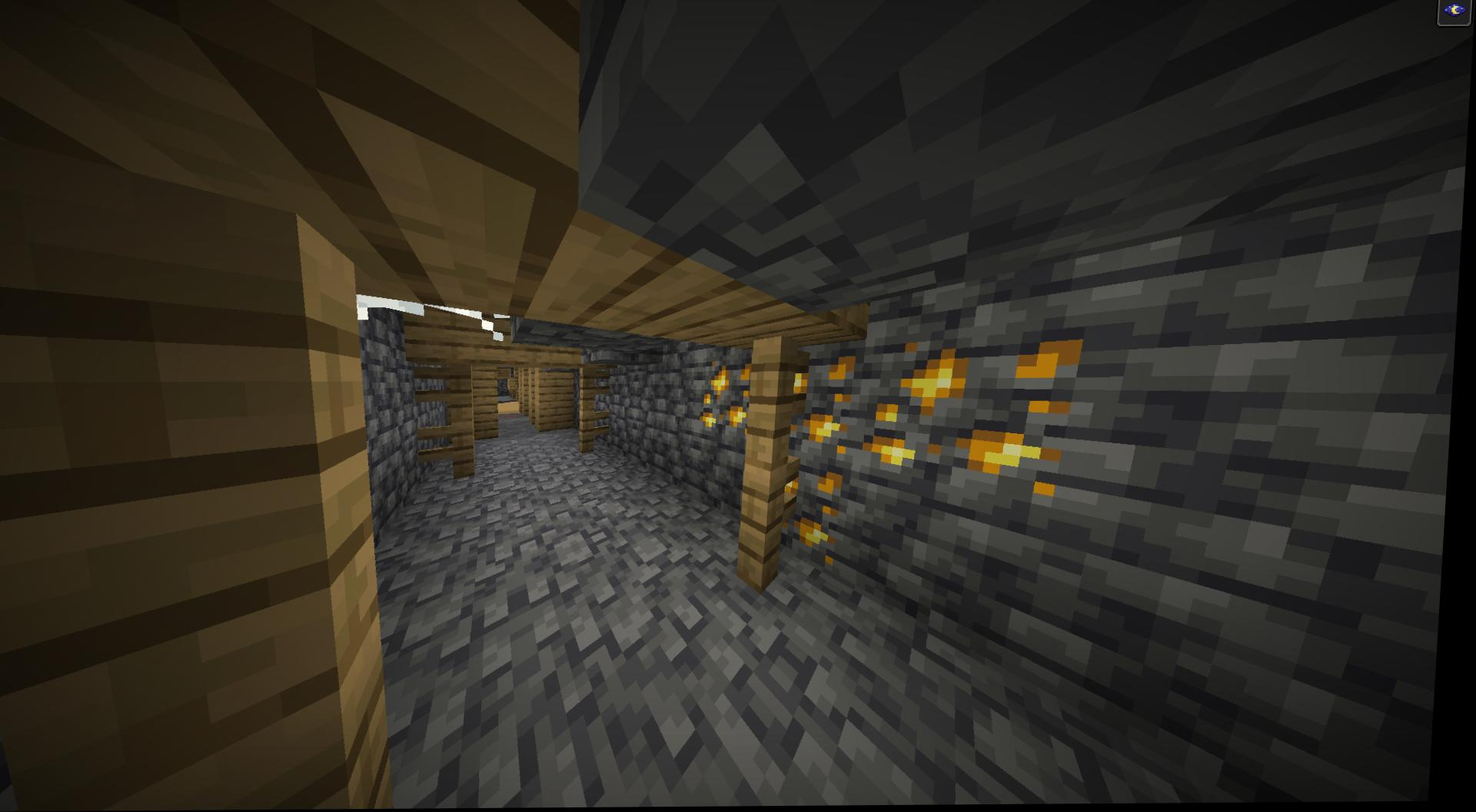gold ore: (871, 335, 1085, 502), (797, 356, 872, 458), (790, 462, 855, 569), (702, 361, 760, 429)
